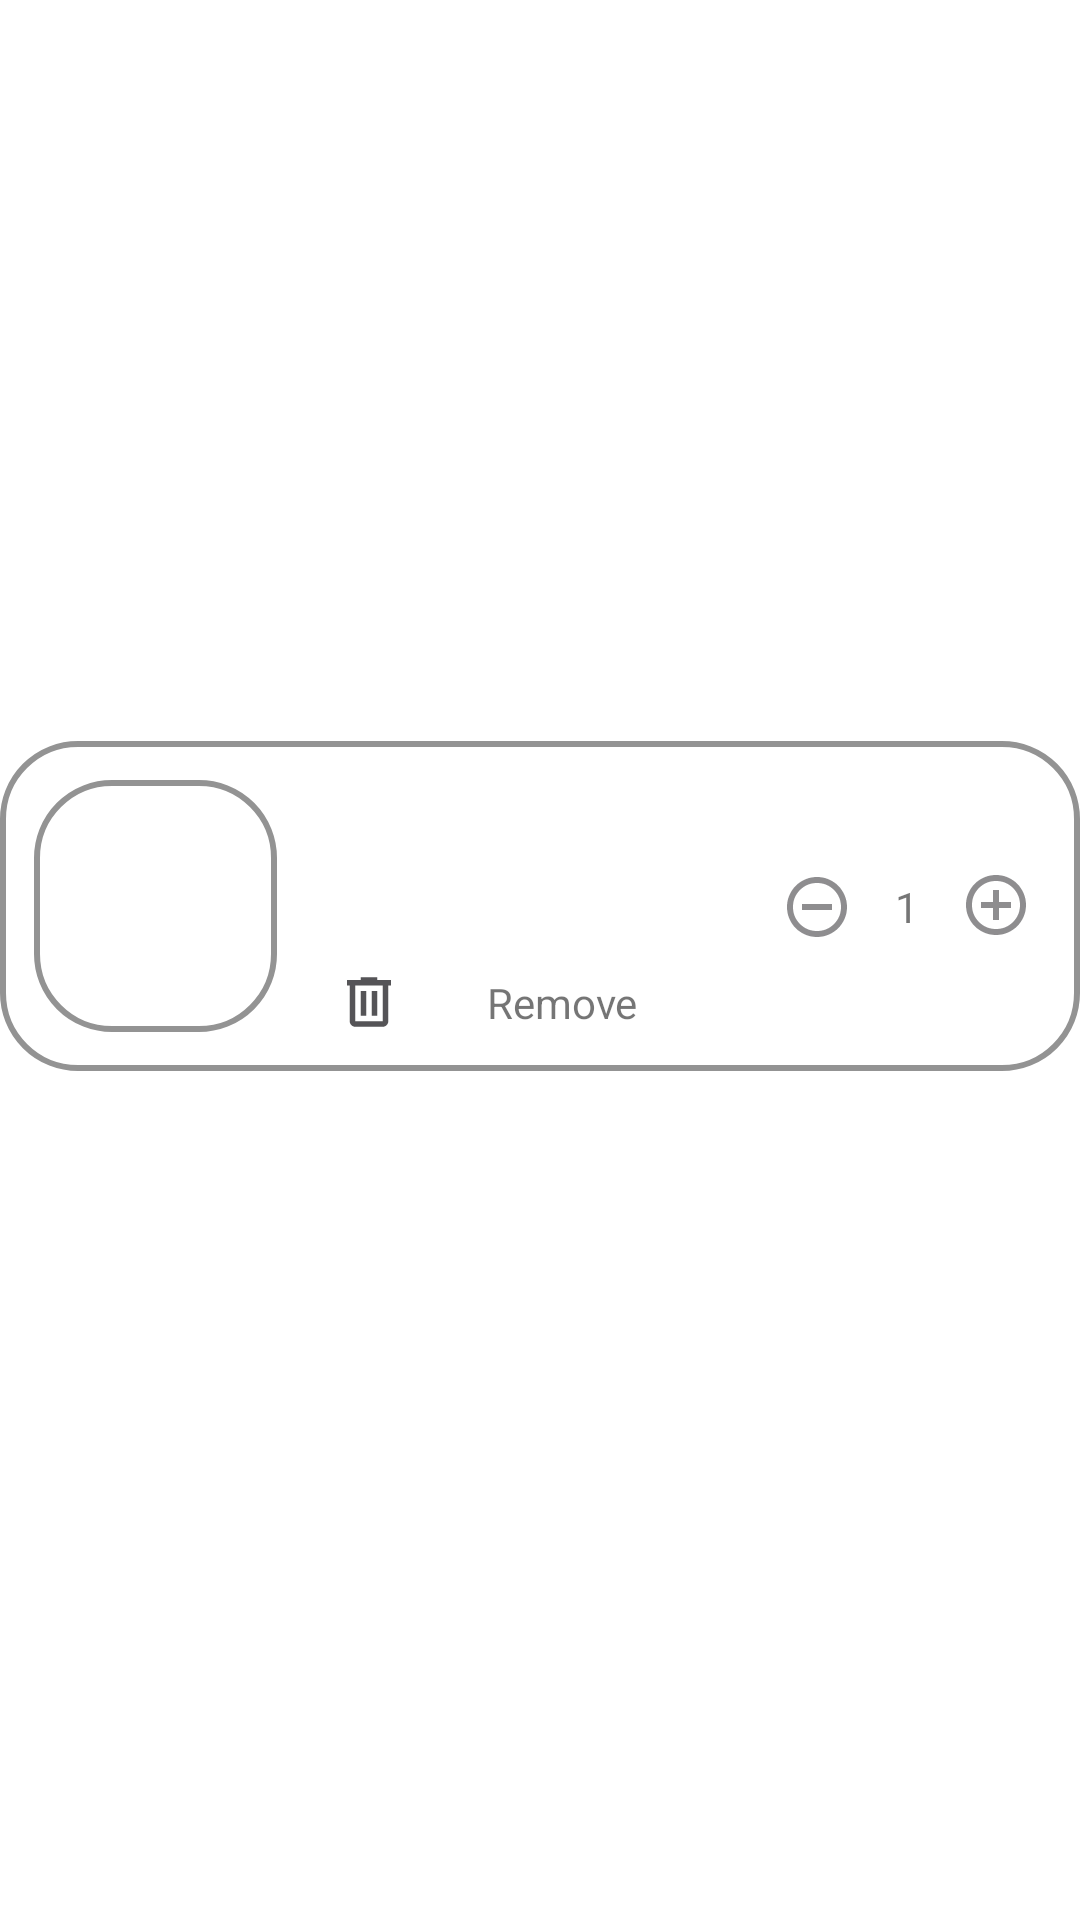

Point at icon controls on the screen. Image size 1080px x 1920px, points as [x,y].
add circle: [996,905]
Delete Item: [369,1002]
do not disturb on: [817,907]
